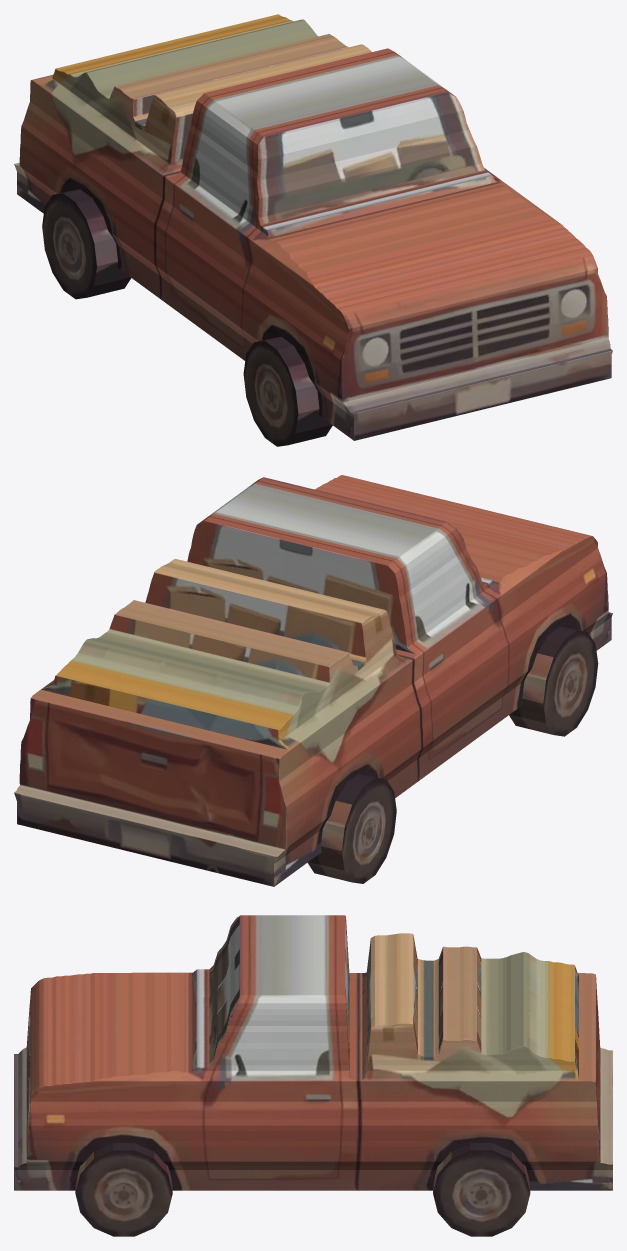
Rendered from car_b.glb.
The picture shows the model from 3 angles, top to bottom: view 1: azimuth 30°, elevation 25°; view 2: azimuth 150°, elevation 25°; view 3: azimuth 270°, elevation 25°; orthographic projection. The views are drawn at different scales.
Visible parts, largest first — view 1: car_b; view 2: car_b; view 3: car_b.
Part boxes in pixels (x1=…): car_b: x1=14, y1=14, x2=612, y2=446; car_b: x1=14, y1=475, x2=612, y2=886; car_b: x1=14, y1=915, x2=612, y2=1236.
Bounding box in the file's own units: 2.06 × 1.6 × 4.01.
Materials: 1 (1 with a texture image).
